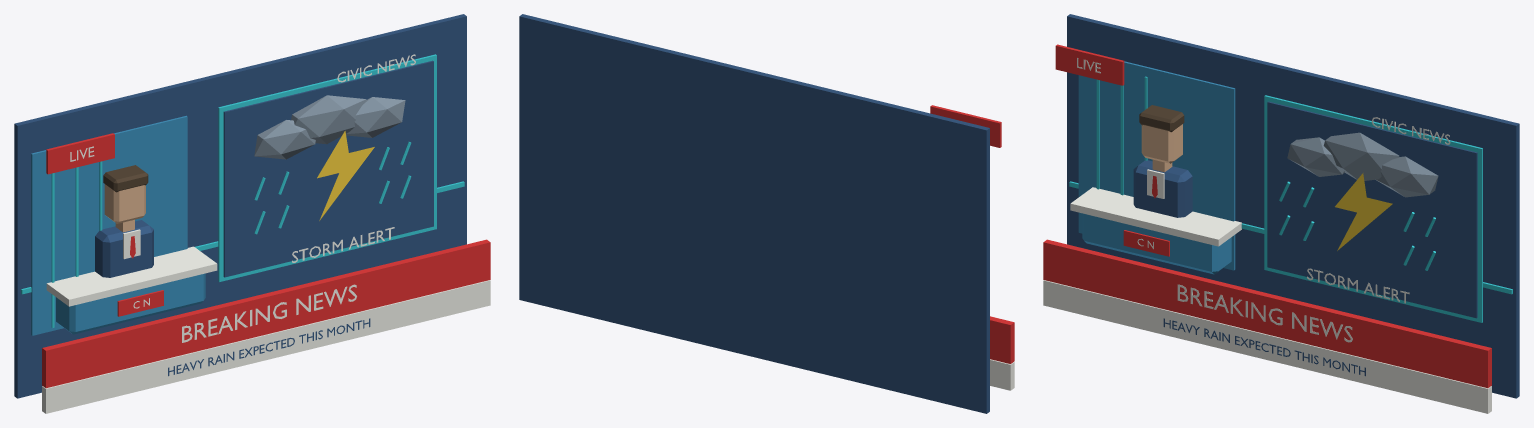
File: News_Background_Storm.fbx
3 renders of one model, left to right at view 1: azimuth 30°, elevation 25°; view 2: azimuth 150°, elevation 25°; view 3: azimuth 330°, elevation 25°, orthographic. The views are drawn at different scales.
Parts seen in each view (by area): view 1: Screen Background.013, Story Window.013, Breaking Lower Third.013, Studio Left Panel.013, Hint Strip.013, Desk Top.013, Desk.013, Story Border.013, Storm Cloud.010, Anchor Jacket.013, Live Badge.013, Storm Cloud.009 (+10 smaller); view 2: Screen Background.013, Breaking Lower Third.013, Live Badge.013, Hint Strip.013; view 3: Screen Background.013, Story Window.013, Breaking Lower Third.013, Studio Left Panel.013, Hint Strip.013, Desk Top.013, Story Border.013, Desk.013, Anchor Jacket.013, Storm Cloud.010, Live Badge.013, Storm Cloud.011 (+10 smaller).
Boxes of the visible parts, left/top/right/bottom form: Screen Background.013: left=14, top=14, right=466, bottom=398; Story Window.013: left=223, top=60, right=433, bottom=277; Breaking Lower Third.013: left=42, top=239, right=490, bottom=388; Studio Left Panel.013: left=31, top=115, right=187, bottom=335; Hint Strip.013: left=42, top=280, right=490, bottom=413; Desk Top.013: left=46, top=246, right=217, bottom=306; Desk.013: left=56, top=273, right=205, bottom=334; Story Border.013: left=218, top=54, right=436, bottom=281; Storm Cloud.010: left=291, top=95, right=366, bottom=144; Anchor Jacket.013: left=95, top=220, right=153, bottom=277; Live Badge.013: left=46, top=133, right=114, bottom=174; Storm Cloud.009: left=254, top=120, right=315, bottom=159; Screen Background.013: left=519, top=14, right=989, bottom=413; Breaking Lower Third.013: left=990, top=316, right=1014, bottom=363; Live Badge.013: left=930, top=105, right=1001, bottom=147; Hint Strip.013: left=990, top=359, right=1014, bottom=390; Screen Background.013: left=1067, top=14, right=1519, bottom=398; Story Window.013: left=1267, top=101, right=1477, bottom=318; Breaking Lower Third.013: left=1043, top=239, right=1491, bottom=388; Studio Left Panel.013: left=1078, top=61, right=1235, bottom=270; Hint Strip.013: left=1043, top=280, right=1491, bottom=413; Desk Top.013: left=1070, top=187, right=1241, bottom=246; Story Border.013: left=1264, top=95, right=1482, bottom=322; Desk.013: left=1082, top=213, right=1231, bottom=274; Anchor Jacket.013: left=1133, top=160, right=1192, bottom=217; Storm Cloud.010: left=1323, top=132, right=1399, bottom=180; Live Badge.013: left=1055, top=44, right=1124, bottom=85; Storm Cloud.011: left=1375, top=156, right=1438, bottom=197.
Size of the model in its own units: 376 by 218 by 43.53.
